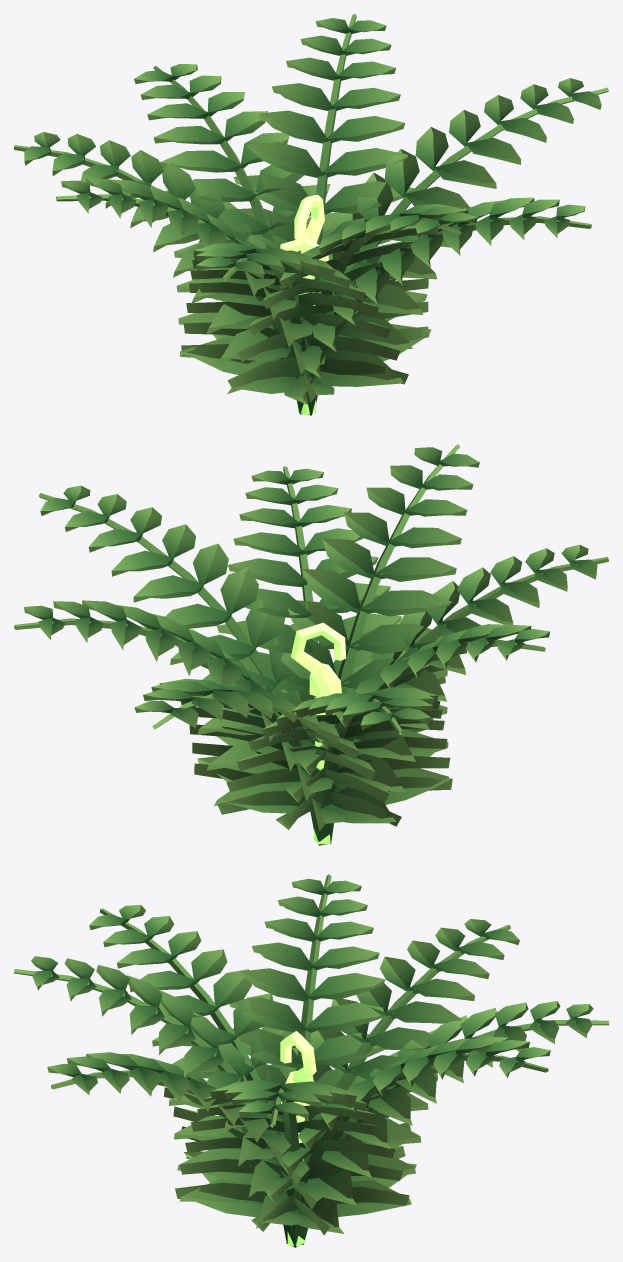
File: featherleaf.glb
3 renders of one model, top to bottom at view 1: azimuth 30°, elevation 25°; view 2: azimuth 150°, elevation 25°; view 3: azimuth 270°, elevation 25°, orthographic. The views are drawn at different scales.
Parts seen in each view (by area): view 1: featherleaf, featherleaf_glow; view 2: featherleaf, featherleaf_glow; view 3: featherleaf, featherleaf_glow.
Part boxes in pixels (bbox=[...]): featherleaf: bbox=[14, 14, 608, 415]; featherleaf_glow: bbox=[280, 194, 328, 415]; featherleaf: bbox=[14, 444, 608, 845]; featherleaf_glow: bbox=[291, 622, 345, 844]; featherleaf: bbox=[14, 874, 608, 1247]; featherleaf_glow: bbox=[280, 1031, 316, 1246].
Bounding box in the file's own units: 1.37 × 0.7115 × 1.37.
